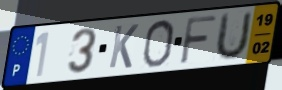1: (34, 31, 51, 78)
3: (65, 27, 98, 76)
F: (178, 14, 219, 66)
K: (107, 23, 141, 70)
O: (140, 18, 177, 70)
U: (212, 9, 254, 63)
